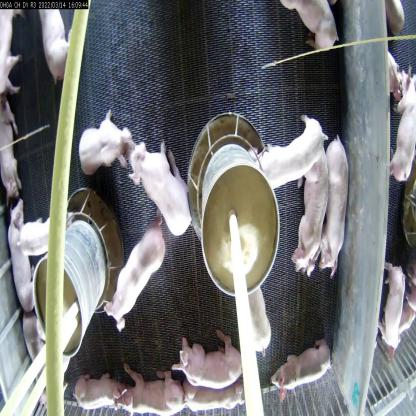Pig: (130, 132, 193, 240), (101, 223, 168, 313), (172, 323, 249, 392), (317, 127, 351, 276), (260, 113, 327, 188), (268, 335, 340, 400), (74, 107, 138, 180), (301, 148, 332, 278), (116, 367, 186, 415), (6, 200, 38, 302), (390, 60, 415, 186), (74, 366, 134, 415), (382, 255, 404, 376), (1, 95, 25, 196)
